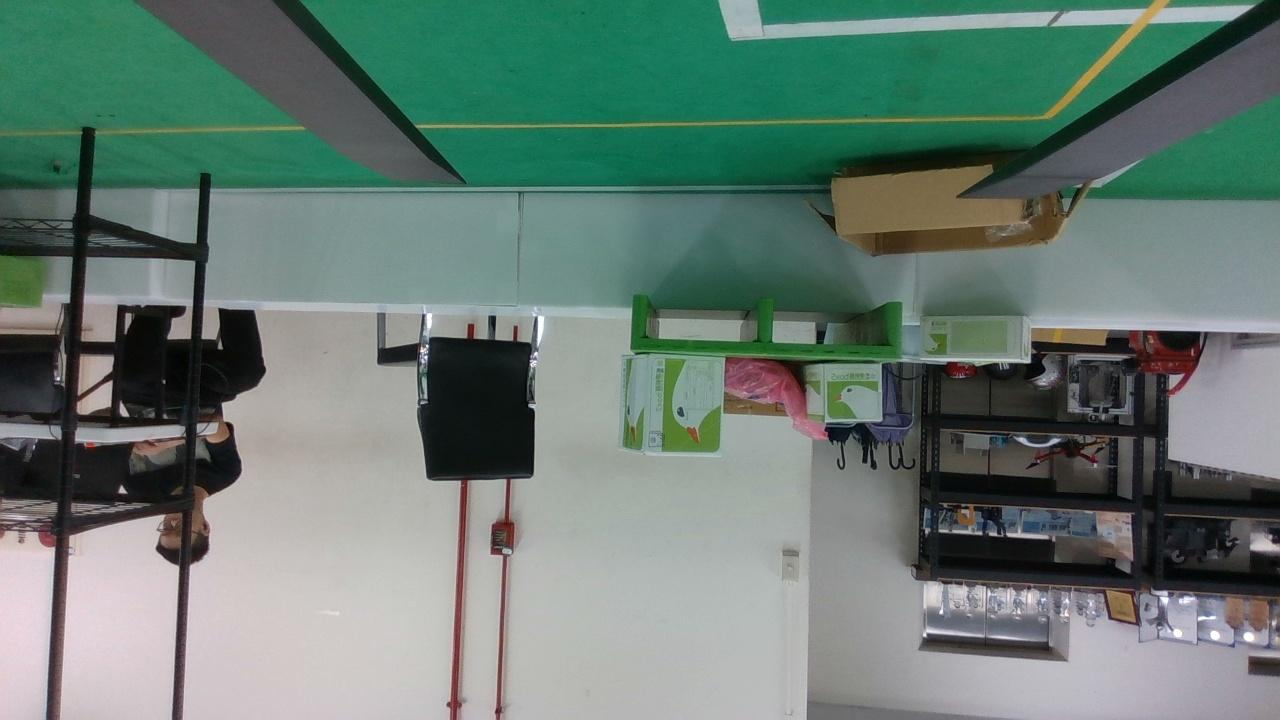Pallet: (629, 296, 902, 359)
